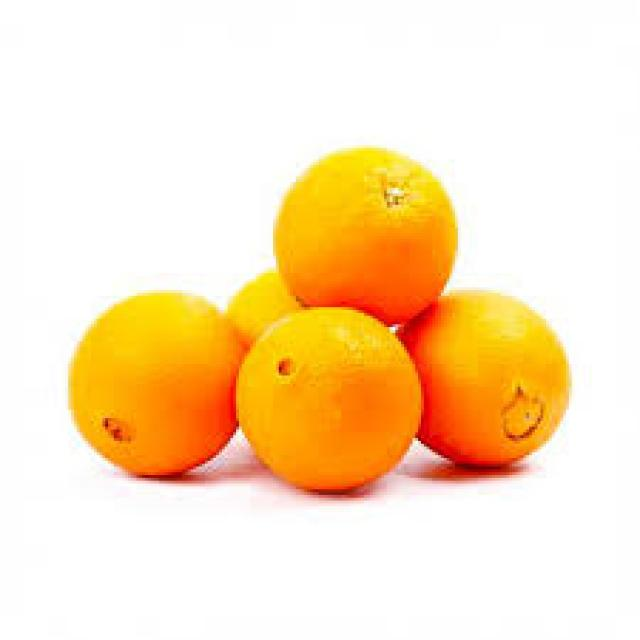Good_Orange: (233, 307, 424, 495), (270, 145, 461, 330), (65, 290, 247, 481), (395, 290, 569, 469)
